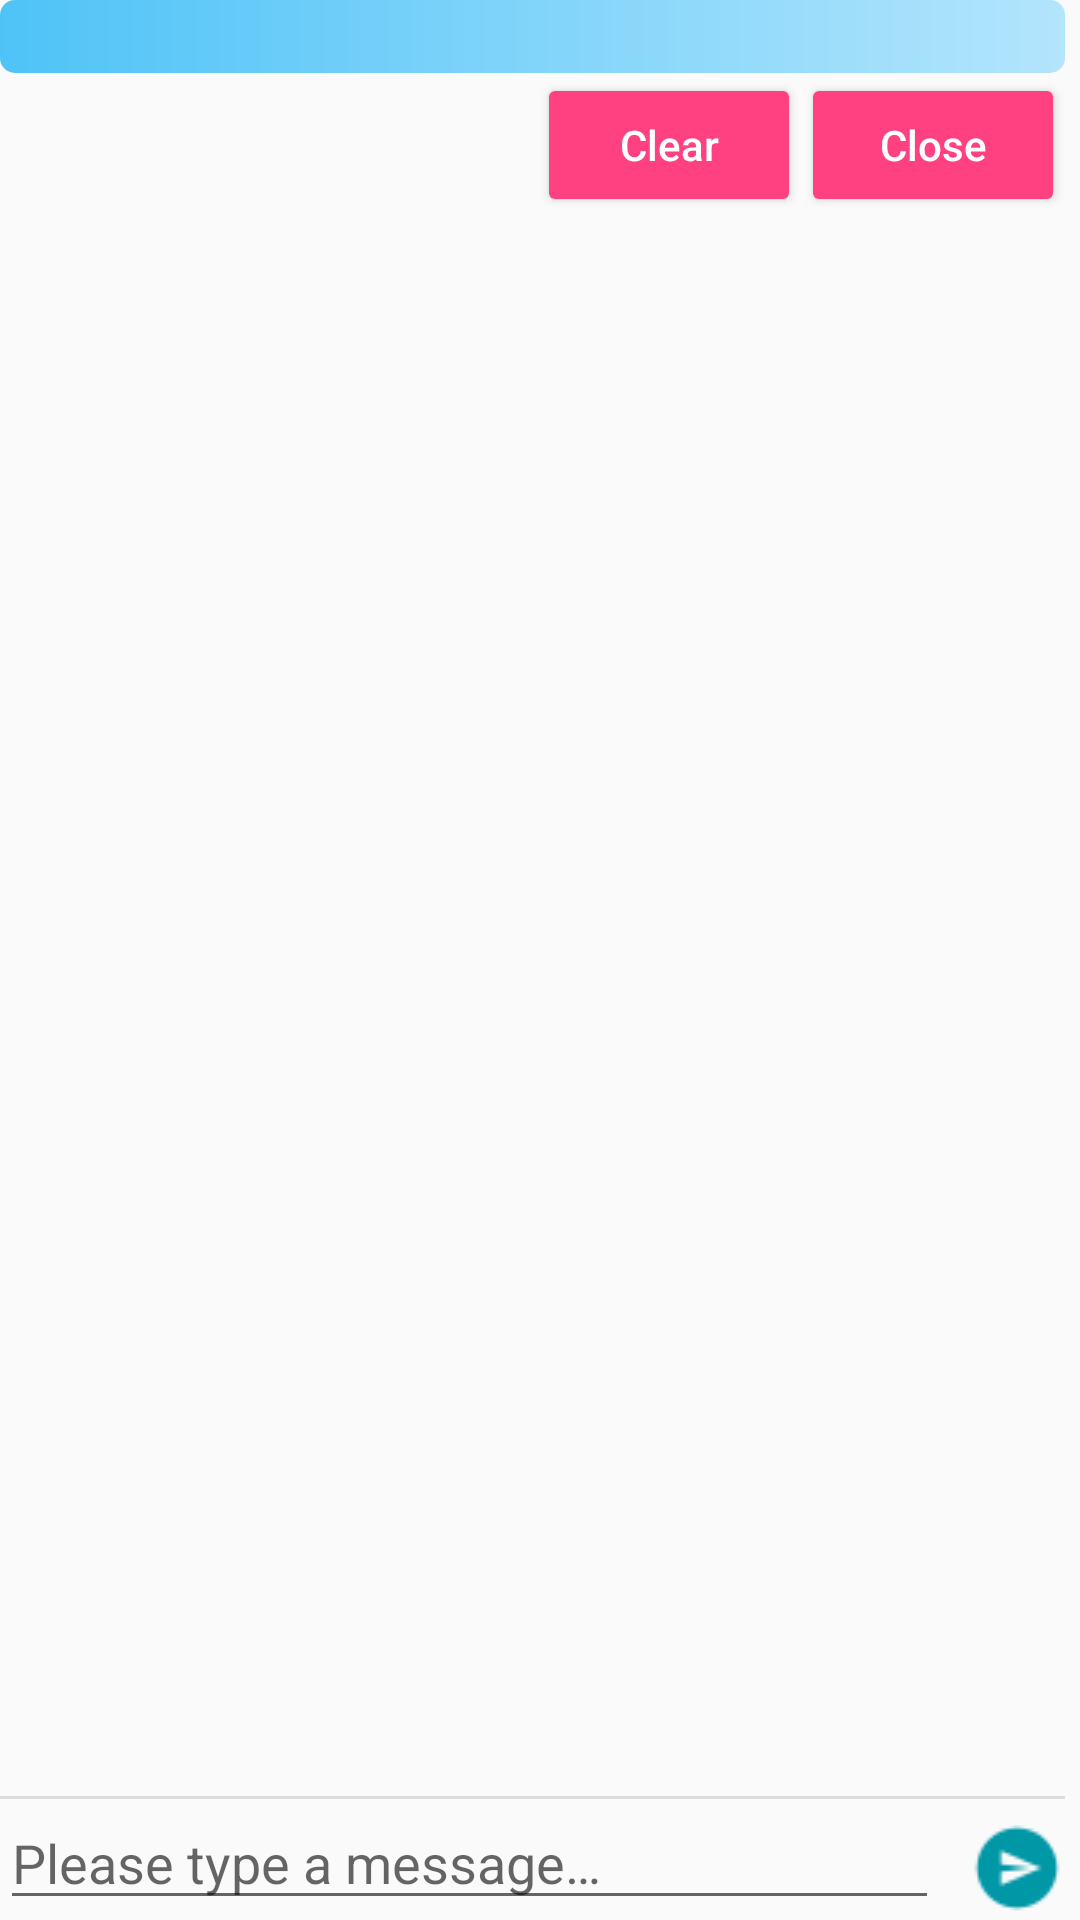

Screen size 1080 × 1920. Icon name, then its center in pixels as (x,y):
send: (1017,1868)
